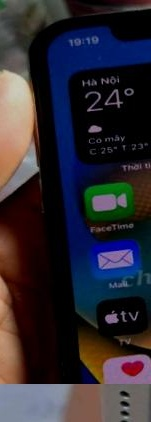scratch: (131, 2, 148, 19)
